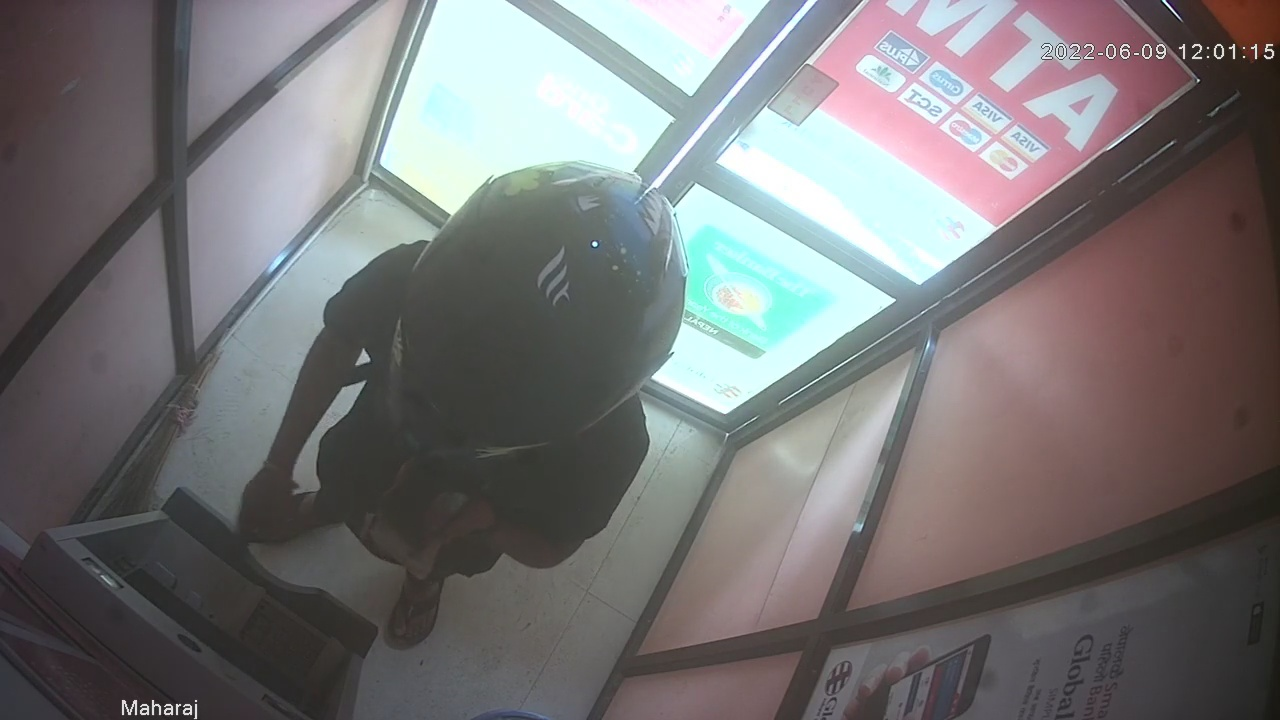helmet: (383, 159, 686, 463)
person: (236, 159, 689, 664)
